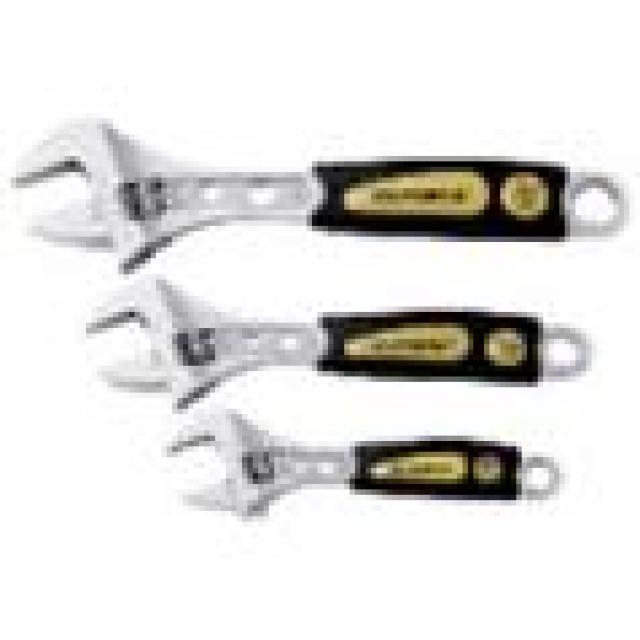wrench: (5, 110, 638, 282), (5, 279, 597, 419), (143, 410, 585, 528)
